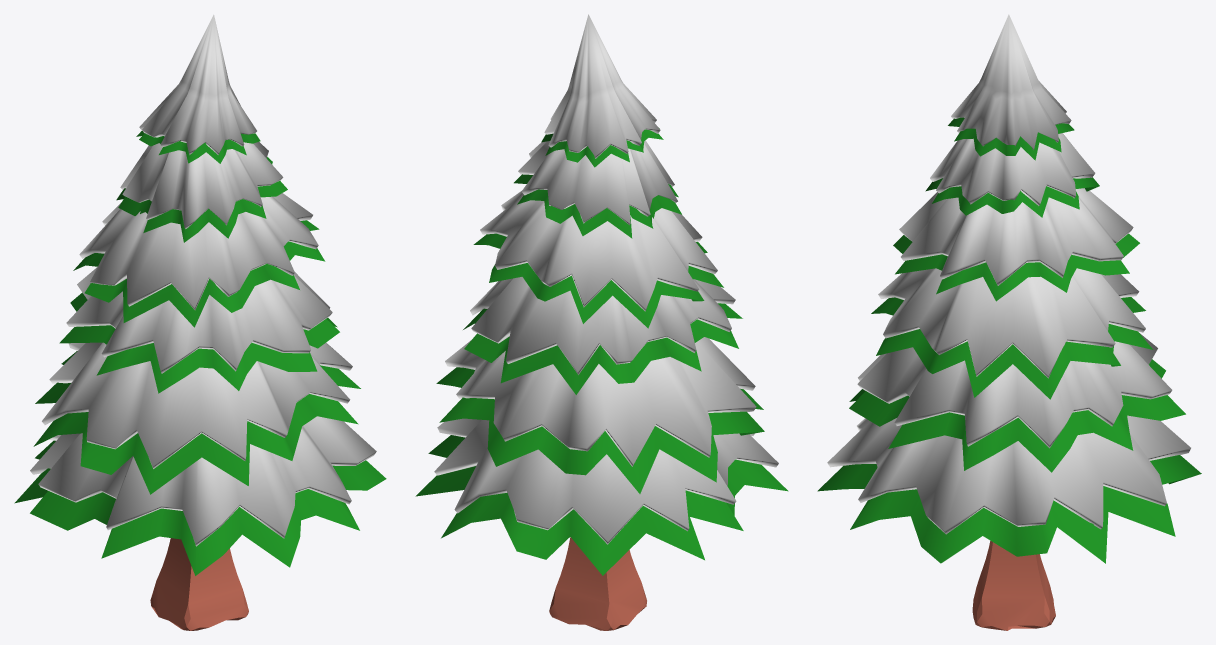
File: tree_snow2.glb
The picture shows the model from 3 angles, left to right: view 1: azimuth 30°, elevation 25°; view 2: azimuth 150°, elevation 25°; view 3: azimuth 270°, elevation 25°; orthographic projection.
Parts seen in each view (by area): view 1: Circle.001, Circle.005, Cube; view 2: Circle.001, Circle.005, Cube; view 3: Circle.001, Circle.005, Cube.
Part boxes in pixels (x1=…): Circle.001: x1=30, y1=14, x2=376, y2=546; Circle.005: x1=14, y1=131, x2=386, y2=575; Cube: x1=150, y1=538, x2=248, y2=630; Circle.001: x1=434, y1=14, x2=778, y2=544; Circle.005: x1=415, y1=128, x2=788, y2=575; Cube: x1=549, y1=537, x2=646, y2=630; Circle.001: x1=827, y1=14, x2=1190, y2=534; Circle.005: x1=817, y1=117, x2=1201, y2=563; Cube: x1=972, y1=541, x2=1055, y2=630.
Size of the model in its own units: 2.31 by 4.22 by 2.43.
